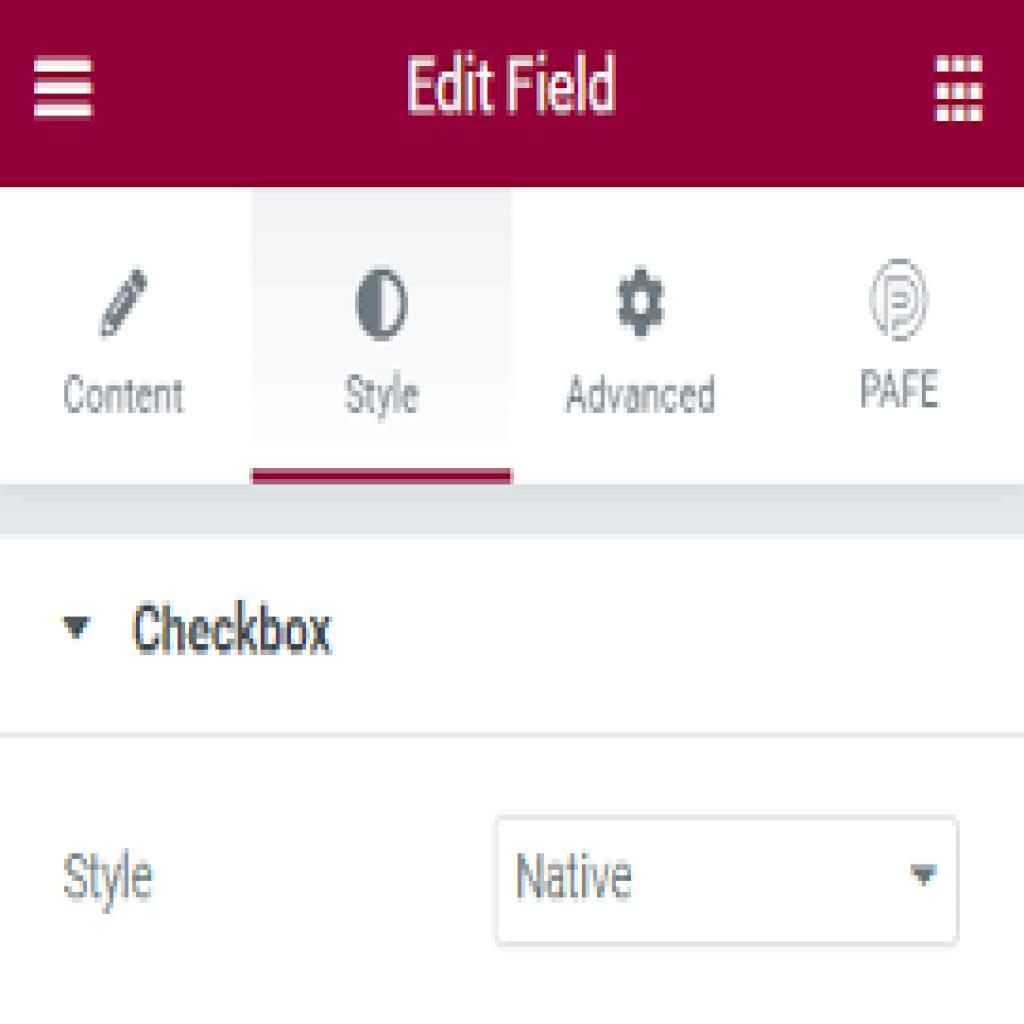dropdown: (495, 816, 961, 948)
icon: (867, 251, 930, 350), (88, 261, 165, 339), (32, 48, 98, 130), (348, 267, 417, 345), (931, 47, 993, 133), (614, 261, 674, 344), (54, 607, 101, 649)
label: (121, 595, 346, 665), (52, 835, 171, 914)
